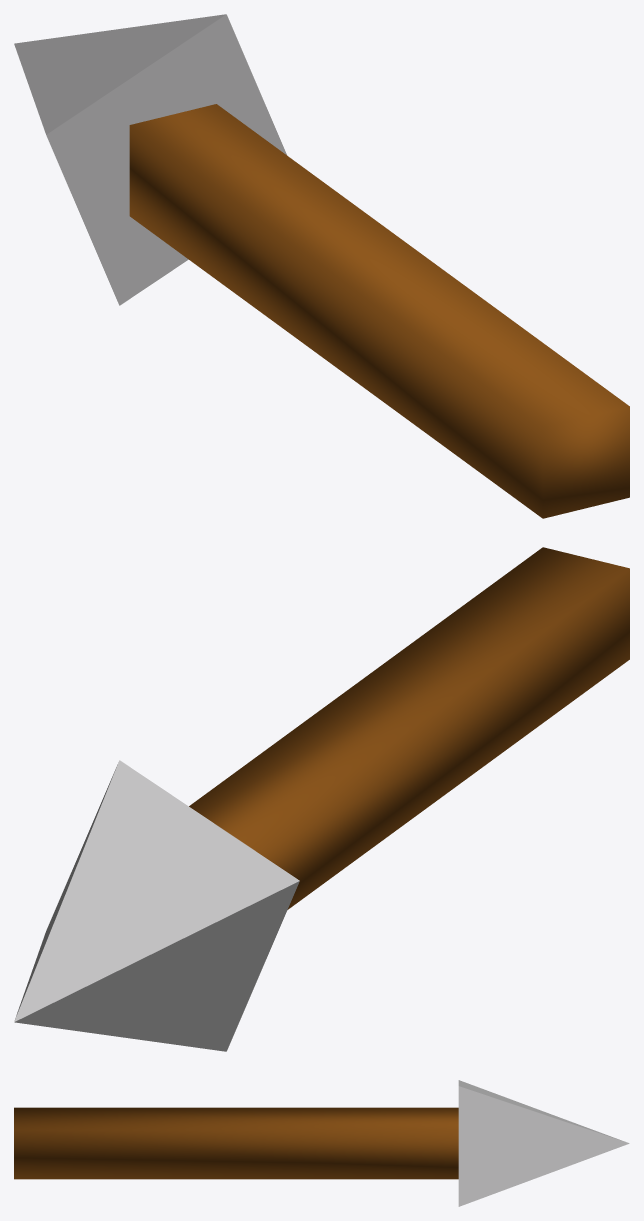
The model's file is Arrow.fbx.
3 renders of one model, top to bottom at view 1: azimuth 30°, elevation 25°; view 2: azimuth 150°, elevation 25°; view 3: azimuth 270°, elevation 25°, orthographic. The views are drawn at different scales.
Visible parts, largest first — view 1: Cone; view 2: Cone; view 3: Cone.
Boxes of the visible parts, box(x1,y1,x2,y2) form: Cone: box(14, 14, 629, 518); Cone: box(14, 547, 629, 1051); Cone: box(14, 1080, 629, 1206).
Bounding box in the file's own units: 35.91 × 35.91 × 140.
1 material, 1 textured.
